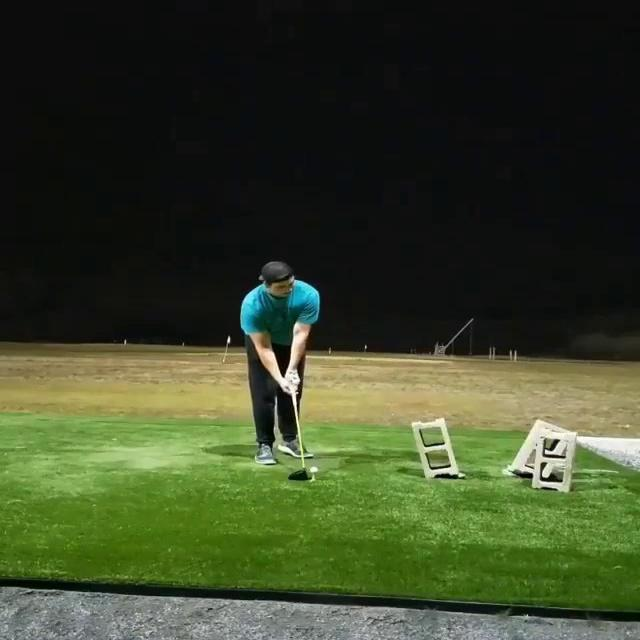ClubHandle: (289, 383, 307, 480)
ClubHead: (289, 469, 307, 480)
GolfBall: (310, 467, 319, 474)
